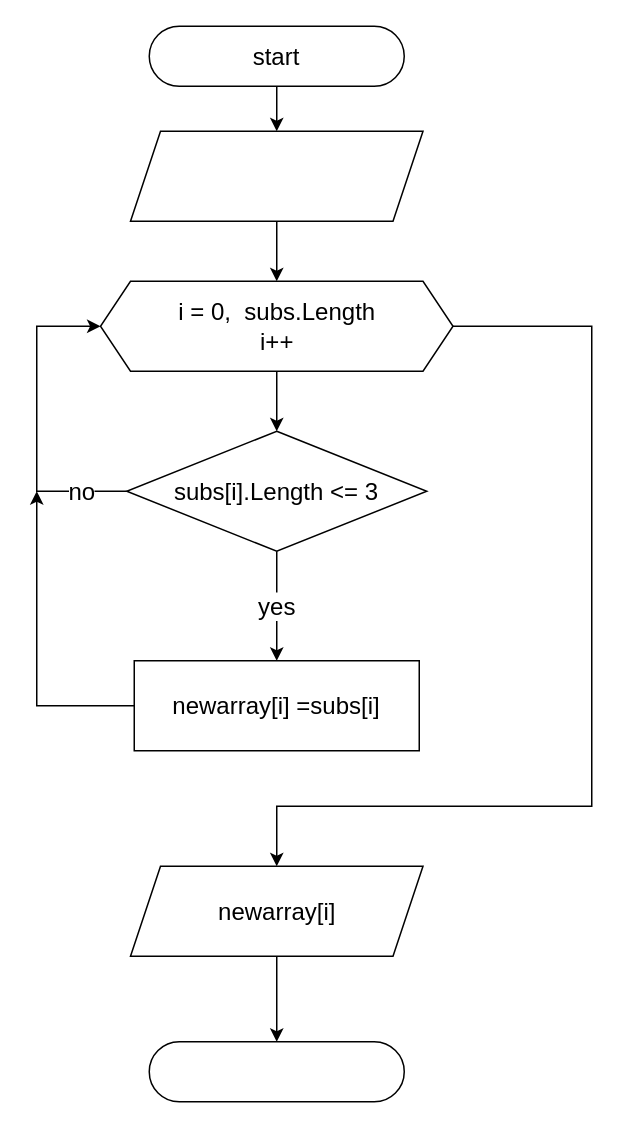
Image size: 630x1128. Some labels were removed from this diagram. Here are the shapes that lost their labels. From the top down, the box of each, then its label:
(129, 130, 423, 221): string [ ] subs string [ ] newarray
(148, 1040, 404, 1102): end
